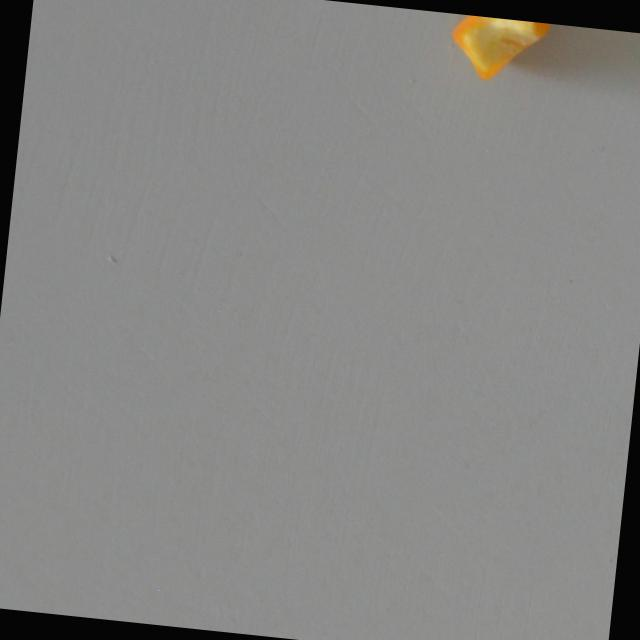no_canjicado: (439, 12, 562, 94)
